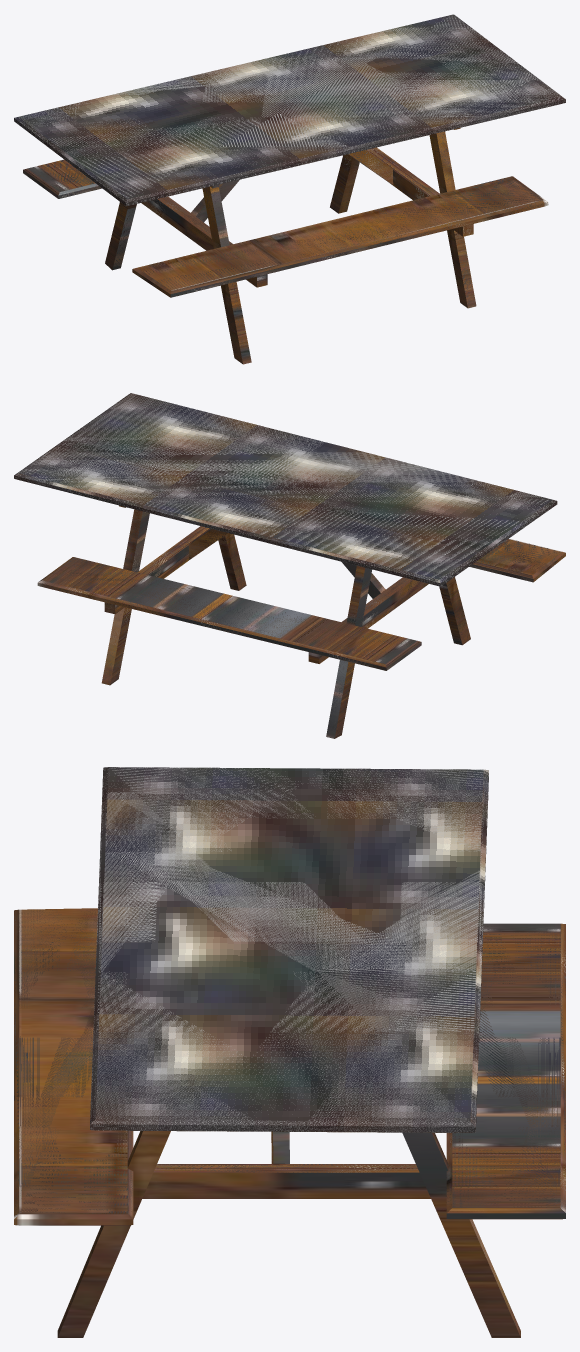
The picture shows the model from 3 angles, top to bottom: view 1: azimuth 30°, elevation 25°; view 2: azimuth 150°, elevation 25°; view 3: azimuth 270°, elevation 25°; orthographic projection. The views are drawn at different scales.
Visible parts, largest first — view 1: mesh22_mesh22-geometry, mesh1_mesh1-geometry; view 2: mesh22_mesh22-geometry, mesh1_mesh1-geometry; view 3: mesh22_mesh22-geometry, mesh1_mesh1-geometry.
Boxes of the visible parts, left/top/right/bottom form: mesh22_mesh22-geometry: left=14, top=14, right=565, bottom=206; mesh1_mesh1-geometry: left=23, top=128, right=548, bottom=364; mesh22_mesh22-geometry: left=14, top=393, right=557, bottom=586; mesh1_mesh1-geometry: left=37, top=505, right=565, bottom=738; mesh22_mesh22-geometry: left=90, top=767, right=488, bottom=1132; mesh1_mesh1-geometry: left=14, top=908, right=565, bottom=1337.
Size of the model in its own units: 0.7973 by 0.3105 by 0.5176.
